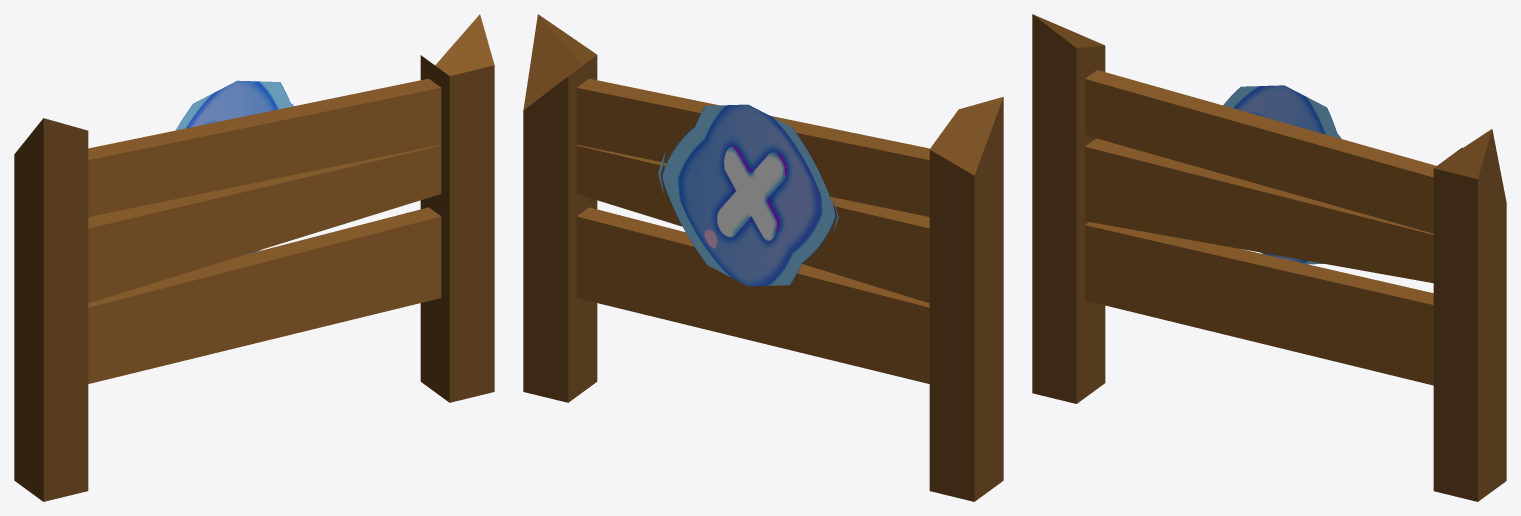
File: Barricada Madeira Block.fbx
3 renders of one model, left to right at view 1: azimuth 30°, elevation 25°; view 2: azimuth 150°, elevation 25°; view 3: azimuth 330°, elevation 25°, orthographic.
Visible parts, largest first — view 1: Cube.010; view 2: Cube.010; view 3: Cube.010.
Part boxes in pixels (<box>): Cube.010: <box>14,14,494,501</box>; Cube.010: <box>523,14,1003,501</box>; Cube.010: <box>1032,14,1506,501</box>.
Size of the model in its own units: 255 by 208 by 30.22.
